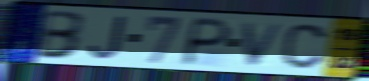7: (144, 13, 185, 66)
B: (33, 9, 88, 61)
C: (279, 22, 330, 71)
J: (87, 14, 130, 61)
P: (178, 16, 235, 68)
V: (241, 21, 287, 68)
